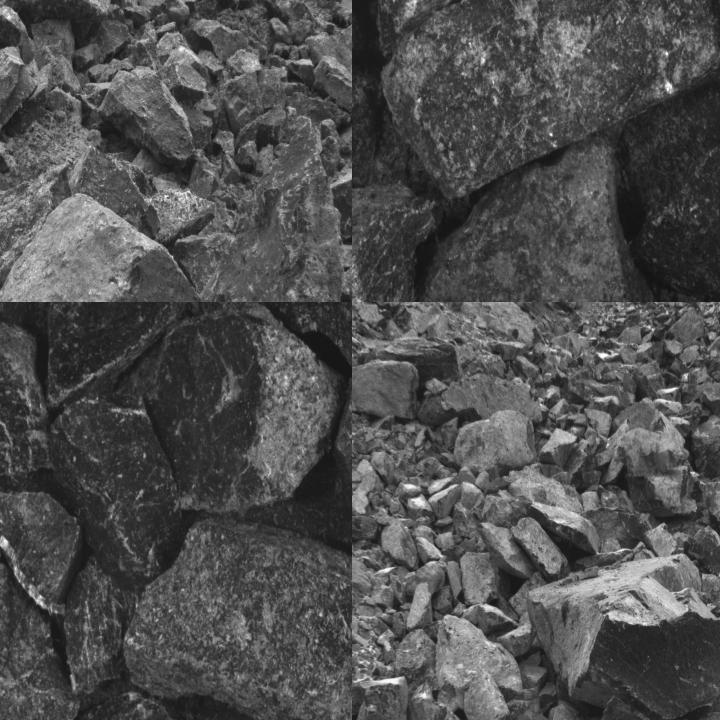stone: (379, 0, 719, 199), (111, 302, 347, 515), (123, 517, 351, 719), (412, 129, 663, 301), (174, 120, 351, 301), (531, 559, 719, 719), (48, 394, 184, 592), (0, 205, 219, 301), (632, 113, 719, 301), (46, 302, 193, 408), (72, 149, 214, 246), (373, 0, 605, 55), (0, 564, 79, 719), (0, 483, 84, 619), (604, 401, 699, 516), (352, 184, 442, 301), (64, 555, 138, 696), (435, 613, 523, 719), (100, 67, 194, 166), (0, 302, 51, 484), (0, 166, 70, 290), (275, 302, 351, 385), (11, 0, 138, 46), (454, 411, 534, 479), (362, 336, 462, 387), (488, 462, 584, 514), (352, 361, 422, 423), (512, 518, 572, 582), (352, 69, 385, 184), (0, 45, 39, 136), (234, 102, 305, 150), (479, 523, 535, 581), (393, 629, 438, 696), (579, 507, 646, 551), (219, 68, 264, 133), (309, 25, 351, 92), (354, 676, 409, 719), (194, 20, 248, 63), (688, 525, 719, 598), (118, 20, 161, 72), (331, 135, 351, 241), (461, 552, 500, 606), (313, 59, 351, 114), (29, 24, 74, 70), (158, 62, 207, 103), (380, 519, 421, 567), (482, 495, 534, 530), (535, 429, 578, 469), (691, 414, 719, 475), (549, 332, 587, 371), (668, 307, 704, 347), (352, 538, 372, 609), (632, 360, 667, 400), (406, 580, 433, 630), (259, 66, 290, 109), (138, 0, 190, 24), (700, 479, 719, 544), (409, 689, 447, 719), (190, 157, 217, 198), (193, 0, 239, 21), (197, 46, 225, 78), (286, 56, 314, 87), (225, 50, 261, 74), (352, 516, 380, 541), (268, 15, 292, 44), (252, 144, 272, 176), (214, 129, 236, 158), (700, 378, 719, 411), (234, 142, 258, 168), (221, 154, 241, 184), (333, 0, 351, 27), (708, 335, 719, 361)
